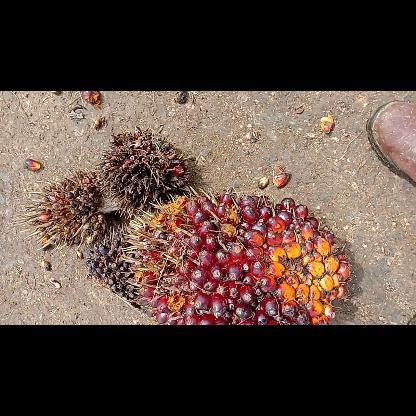TBS abnormal: (94, 126, 192, 216), (13, 168, 109, 250), (85, 227, 144, 311)
TBS masak: (120, 184, 354, 324)
